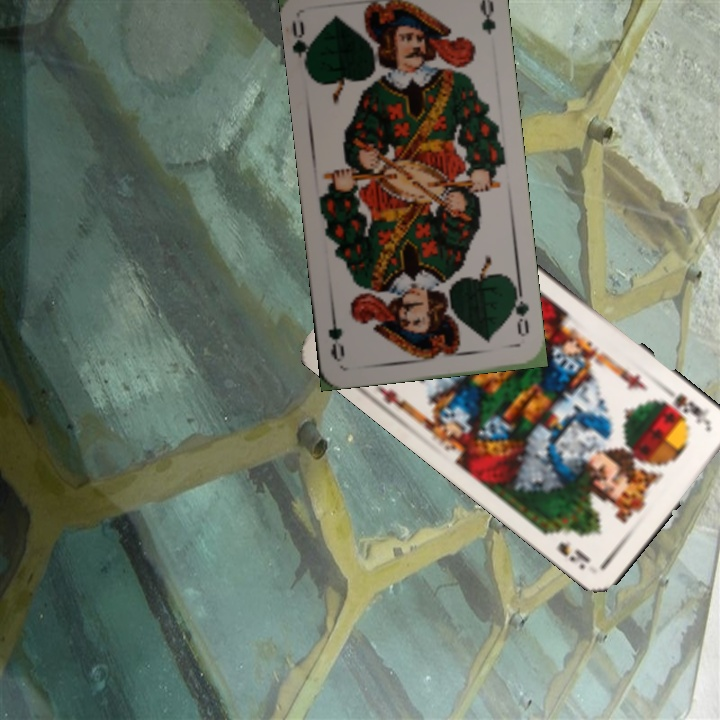GO: (288, 17, 317, 74), (506, 283, 532, 340)
SK: (657, 384, 713, 432)
